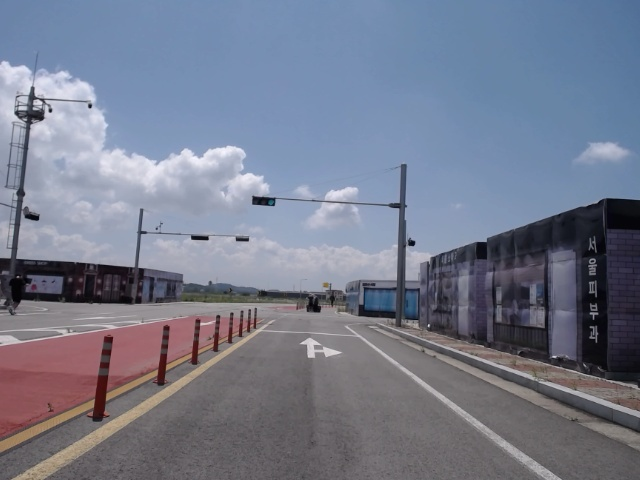green_3: (252, 198, 276, 206)
